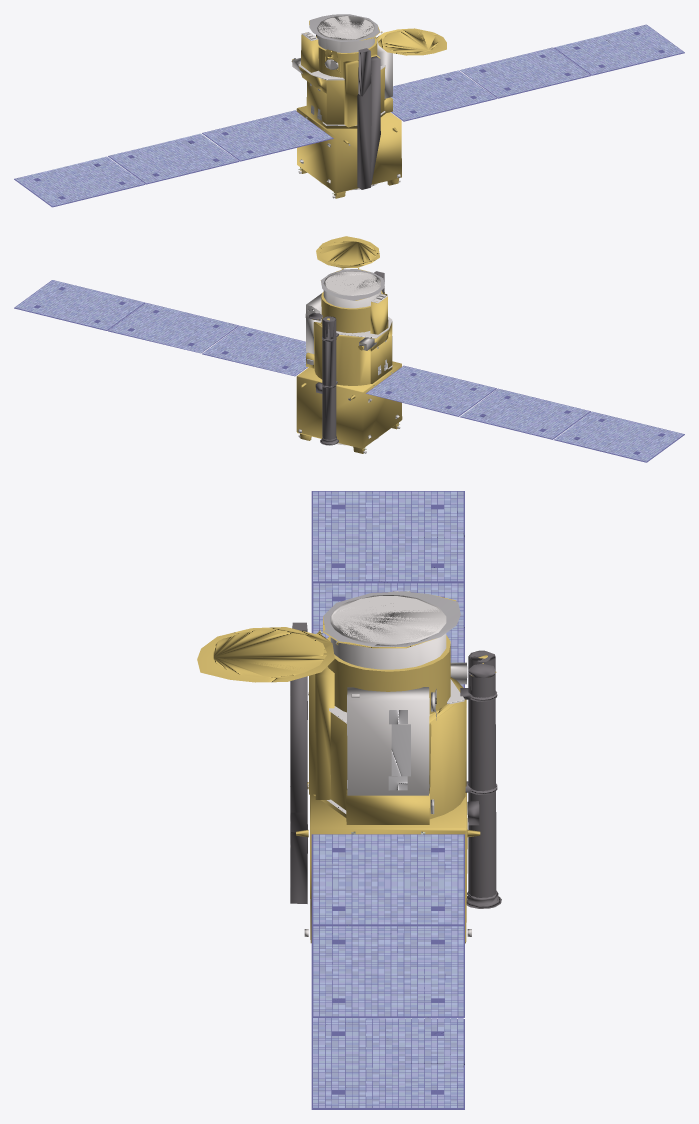
Rendered from hinode.glb.
The picture shows the model from 3 angles, top to bottom: view 1: azimuth 30°, elevation 25°; view 2: azimuth 150°, elevation 25°; view 3: azimuth 270°, elevation 25°; orthographic projection. The views are drawn at different scales.
Visible parts, largest first — view 1: Fake; view 2: Fake; view 3: Fake.
Boxes of the visible parts, x1,y1,x2,y2 form: Fake: (14,14,684,207); Fake: (14,236,684,462); Fake: (197,491,501,1109).
Size of the model in its own units: 230 by 52.47 by 47.9.
Materials: 1 (1 with a texture image).
